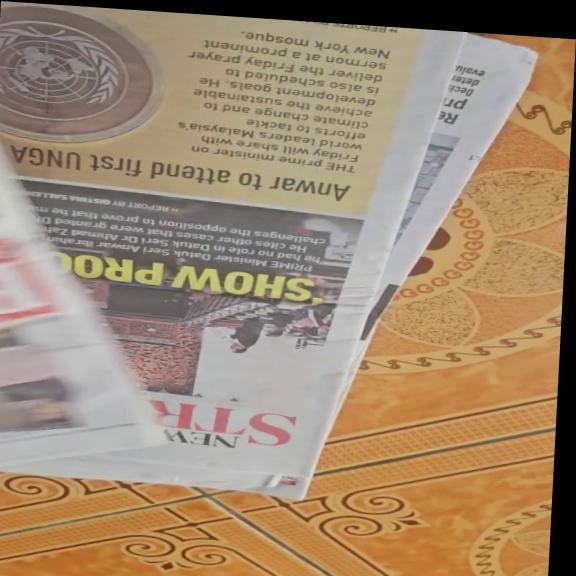Kertas: (0, 3, 530, 499)
